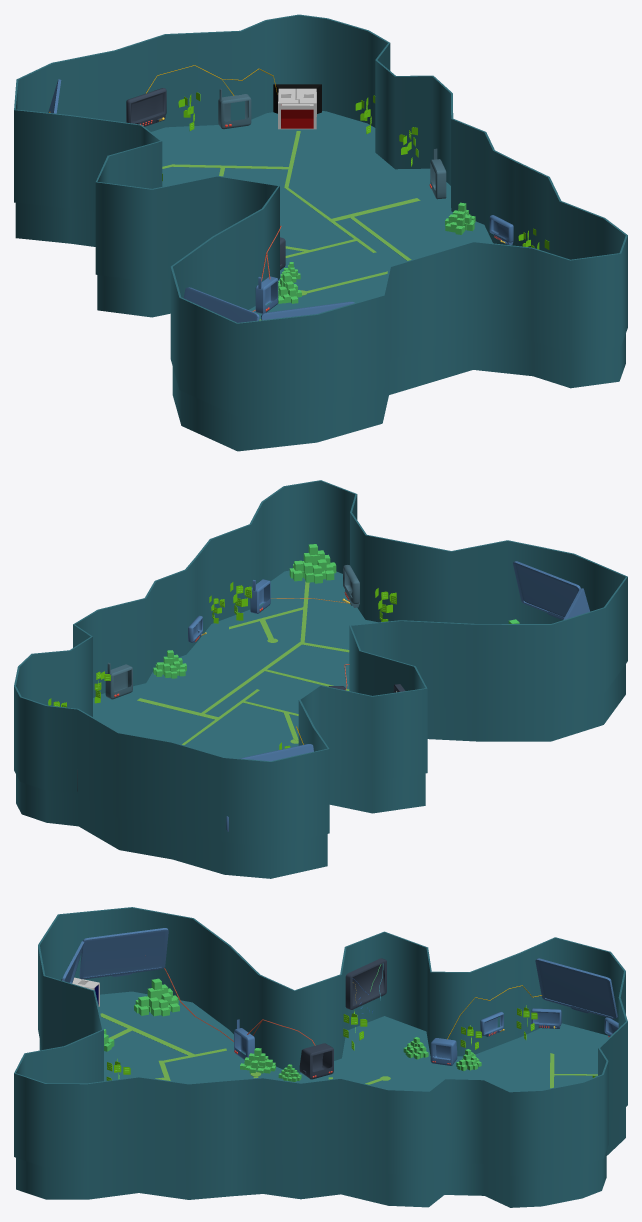
The model's file is Level 1, with captcha and encryption.fbx.
3 views of the same model, one above another, from view 1: azimuth 30°, elevation 25°; view 2: azimuth 150°, elevation 25°; view 3: azimuth 270°, elevation 25° (orthographic). The views are drawn at different scales.
Visible parts, largest first — view 1: Plane.011, Plane.009, Plane.010, Cube.091, Cube.058, Cube.001, Cube.096, Cube.020, Cube.008, Cube.108, Cube.094; view 2: Plane.011, Plane.009, Plane.010, Cube.008, Cube.071, Cube.094, Cube.108, Cube.027, Cube.050, Cube.105; view 3: Plane.011, Plane.009, Cube.001, Cube.050, Vert.006, Plane.010, Cube.074, Cube.012, Cube.016, Cube.069, Cube.020, Cube.103 (+1 smaller).
Part boxes in pixels (x1,y1,x2,y2): Plane.011: [14, 14, 627, 415]; Plane.009: [15, 111, 625, 451]; Plane.010: [162, 131, 420, 320]; Cube.091: [273, 84, 321, 129]; Cube.058: [126, 88, 166, 126]; Cube.001: [183, 287, 259, 322]; Cube.096: [218, 88, 251, 129]; Cube.020: [255, 276, 278, 313]; Cube.008: [261, 301, 354, 320]; Cube.108: [445, 202, 475, 234]; Cube.094: [429, 148, 446, 199]; Plane.011: [14, 480, 627, 846]; Plane.009: [16, 570, 625, 878]; Plane.010: [137, 581, 349, 745]; Cube.008: [513, 561, 580, 619]; Cube.071: [289, 544, 336, 583]; Cube.094: [105, 662, 132, 699]; Cube.108: [153, 650, 186, 678]; Cube.027: [250, 579, 270, 613]; Cube.050: [239, 744, 313, 761]; Cube.105: [342, 565, 359, 607]; Plane.011: [14, 907, 627, 1175]; Plane.009: [16, 991, 625, 1207]; Cube.001: [79, 928, 168, 979]; Cube.050: [535, 958, 617, 1019]; Vert.006: [345, 958, 386, 1009]; Plane.010: [100, 1013, 597, 1088]; Cube.074: [134, 978, 179, 1016]; Cube.012: [299, 1043, 333, 1079]; Cube.016: [430, 1038, 457, 1065]; Cube.069: [240, 1048, 275, 1073]; Cube.020: [234, 1019, 254, 1059]; Cube.103: [531, 1008, 561, 1028].
Bounding box in the file's own units: 3914 × 1147 × 5483.
